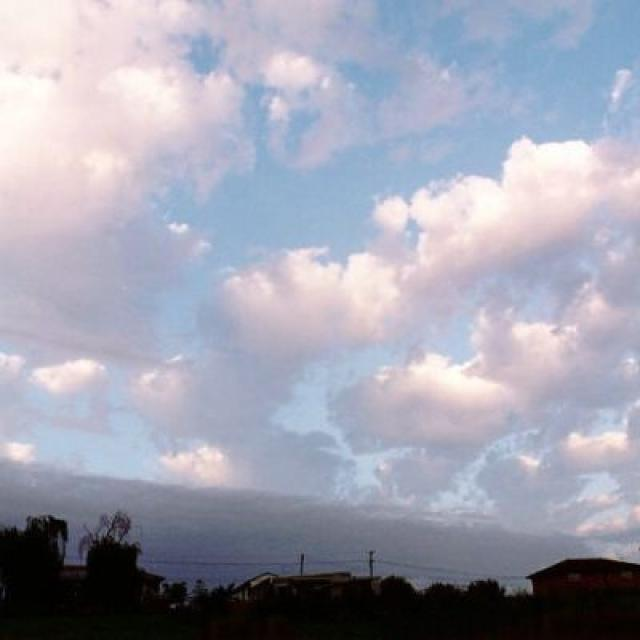Sc: (1, 33, 640, 448)
